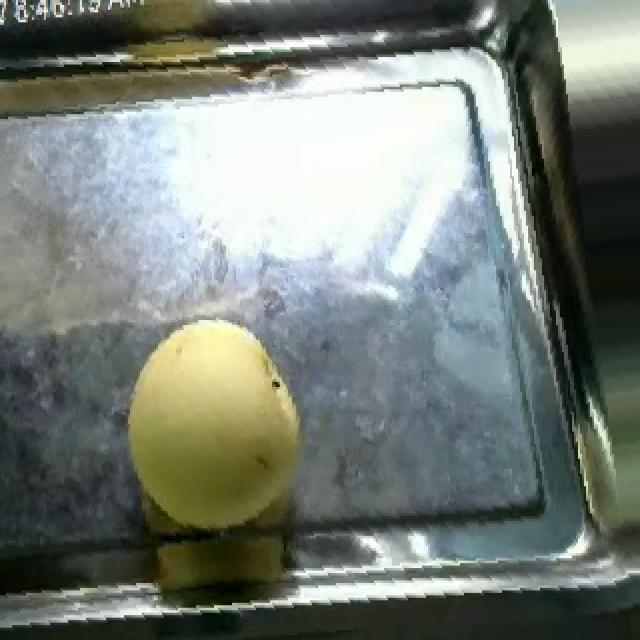Fruit: (112, 305, 328, 546)
